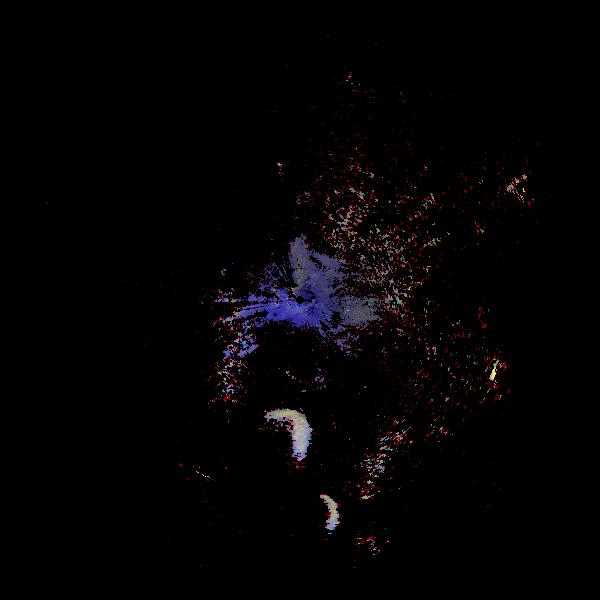roost: (287, 486, 344, 543), (260, 408, 314, 462)
